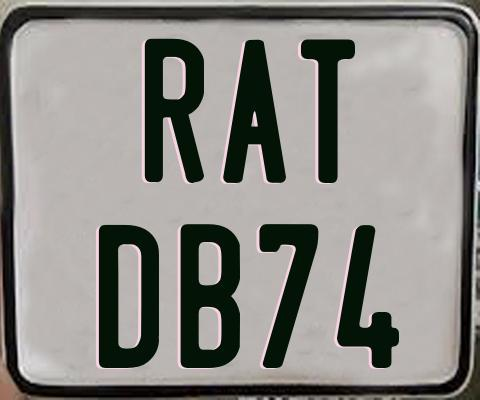4: (337, 224, 405, 368)
7: (258, 223, 320, 373)
A: (220, 40, 288, 188)
B: (181, 223, 240, 368)
D: (96, 222, 159, 368)
R: (144, 38, 209, 186)
T: (298, 36, 357, 180)
